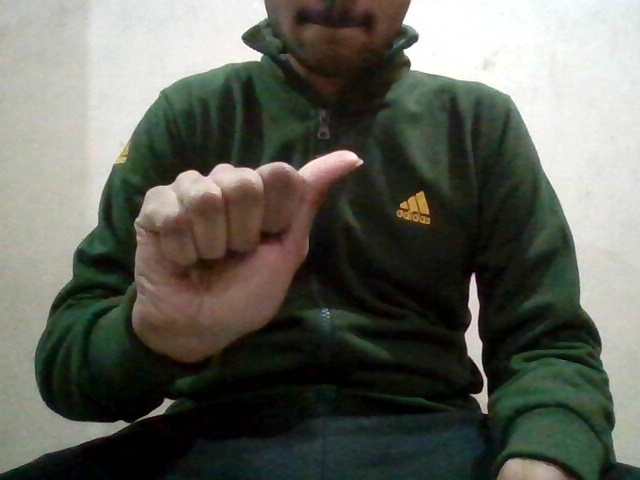A: (129, 147, 365, 363)
